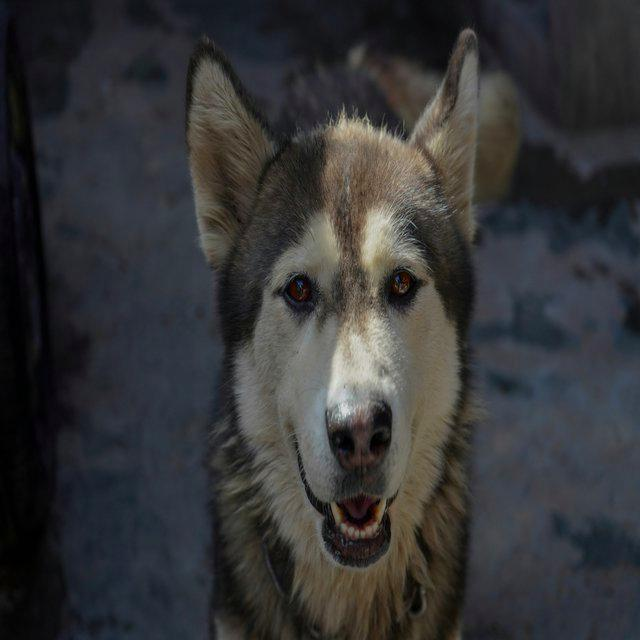husky: (184, 26, 518, 638)
